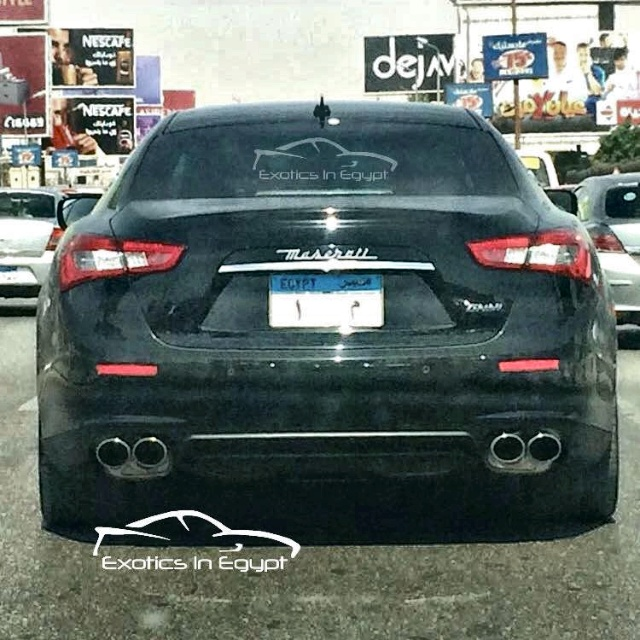License Plate: (266, 271, 388, 332)
